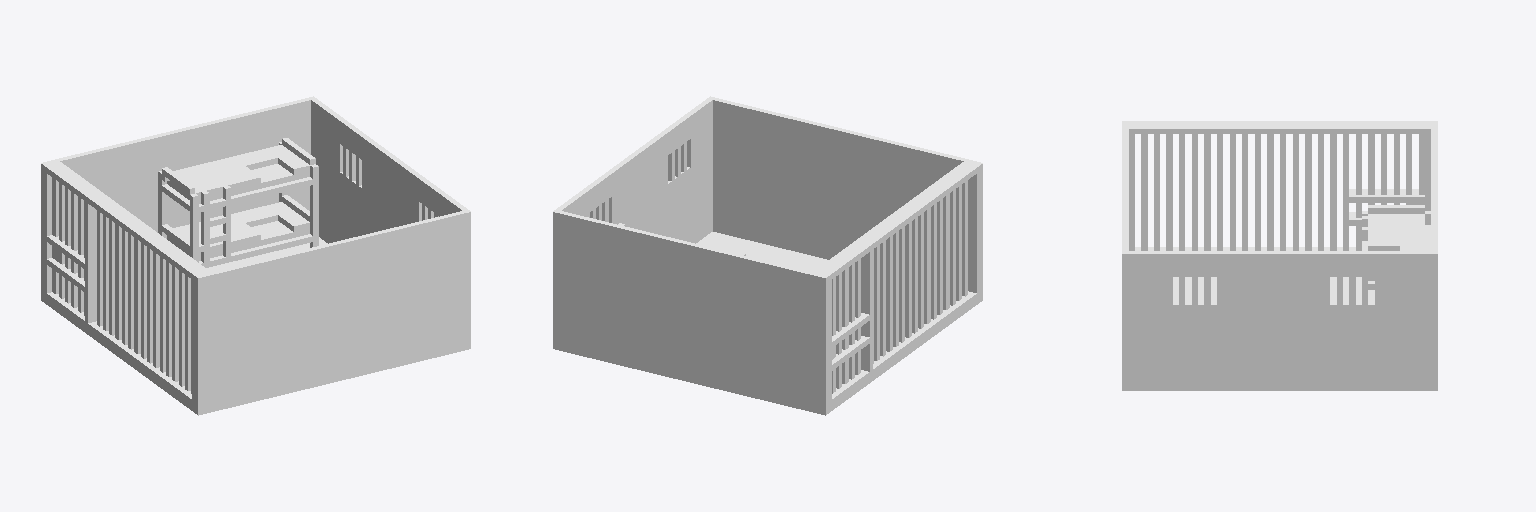
File: Cell_Block_Menu_Main.obj
3 views of the same model, side by side, from view 1: azimuth 30°, elevation 25°; view 2: azimuth 150°, elevation 25°; view 3: azimuth 270°, elevation 25° (orthographic).
Bounding box in the file's own units: 50 × 24 × 50.